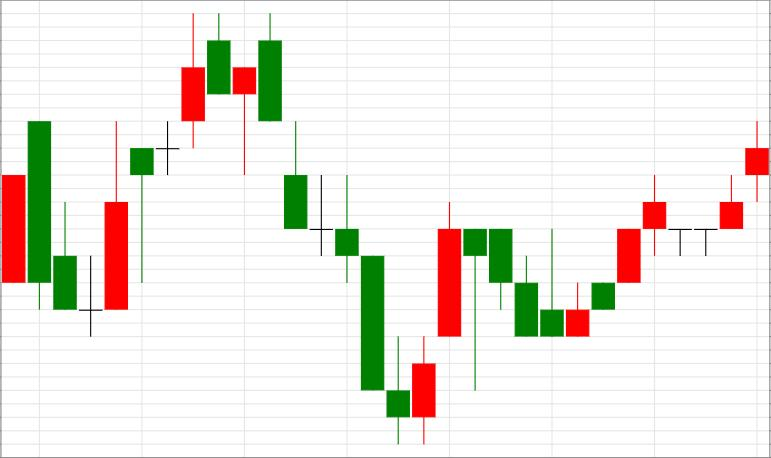bullish_engulfing_rise: (258, 13, 436, 444)
inverse_hammer_rise: (463, 229, 564, 391)
